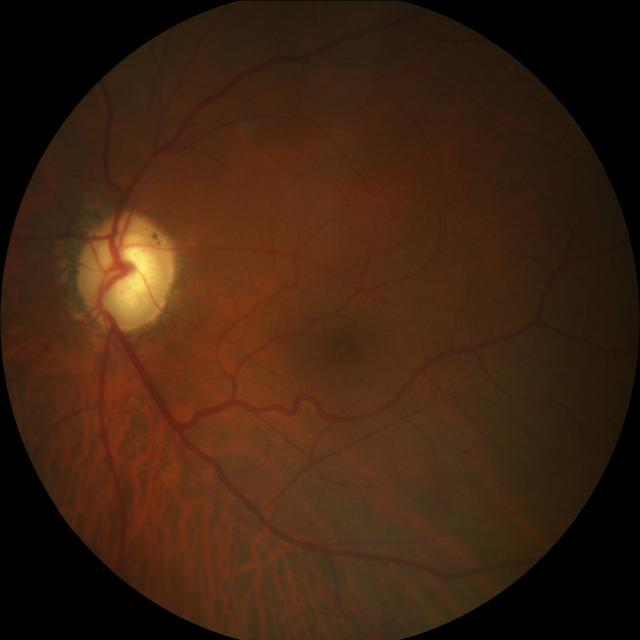OC: (102, 236, 150, 296)
OD: (76, 211, 178, 329)
